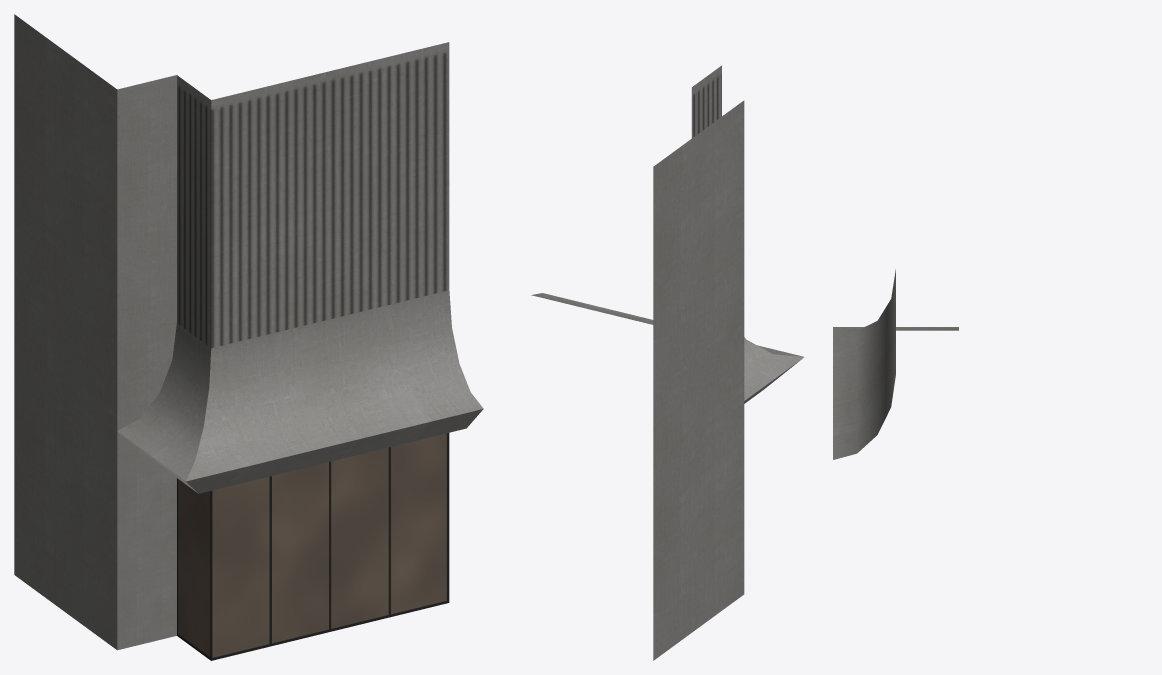
File: left_edge.gltf
3 views of the same model, side by side, from view 1: azimuth 30°, elevation 25°; view 2: azimuth 150°, elevation 25°; view 3: azimuth 270°, elevation 25° (orthographic). The views are drawn at different scales.
Parts seen in each view (by area): view 1: left_edge; view 2: left_edge; view 3: left_edge.
Part boxes in pixels (left/top/right/bottom): left_edge: left=14, top=14, right=483, bottom=660; left_edge: left=531, top=65, right=804, bottom=660; left_edge: left=833, top=269, right=958, bottom=459.
Size of the model in its own units: 5 by 9 by 5.
Materials: 3 (3 with a texture image).
